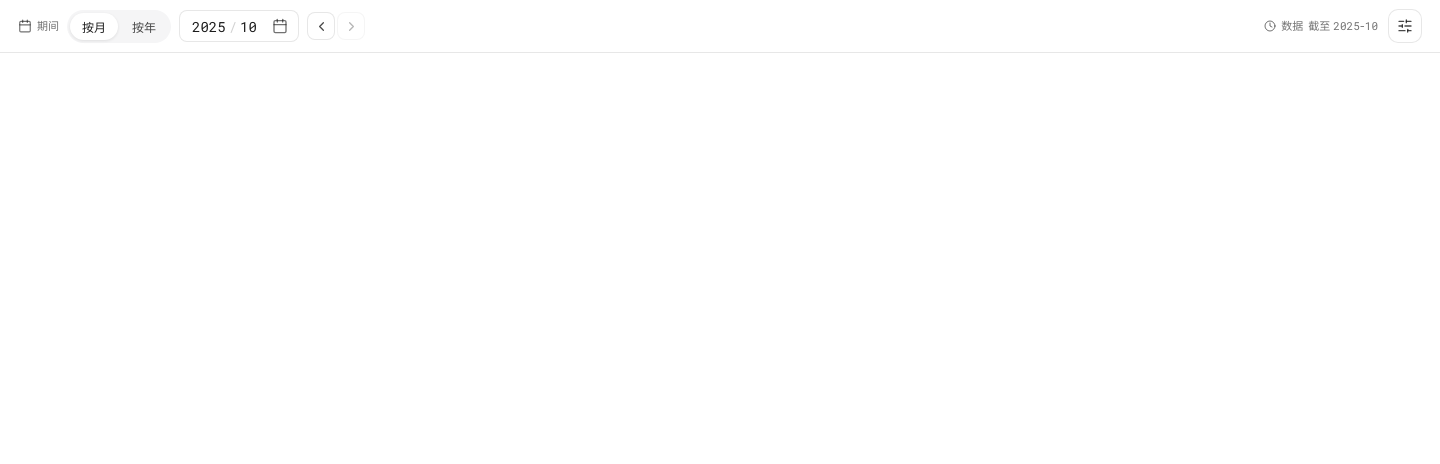
目标与阈值:库里一份,每一项要所属那一屏的编辑权 › ❗六项的编辑一项都没有:六个框和「恢复默认」都置灰;每个框悬停写它要哪一屏的编辑,弹层里一句总说明
Click the button with class "anx-icobtn".
click(1405, 26)  # box [1388,9,1422,43]
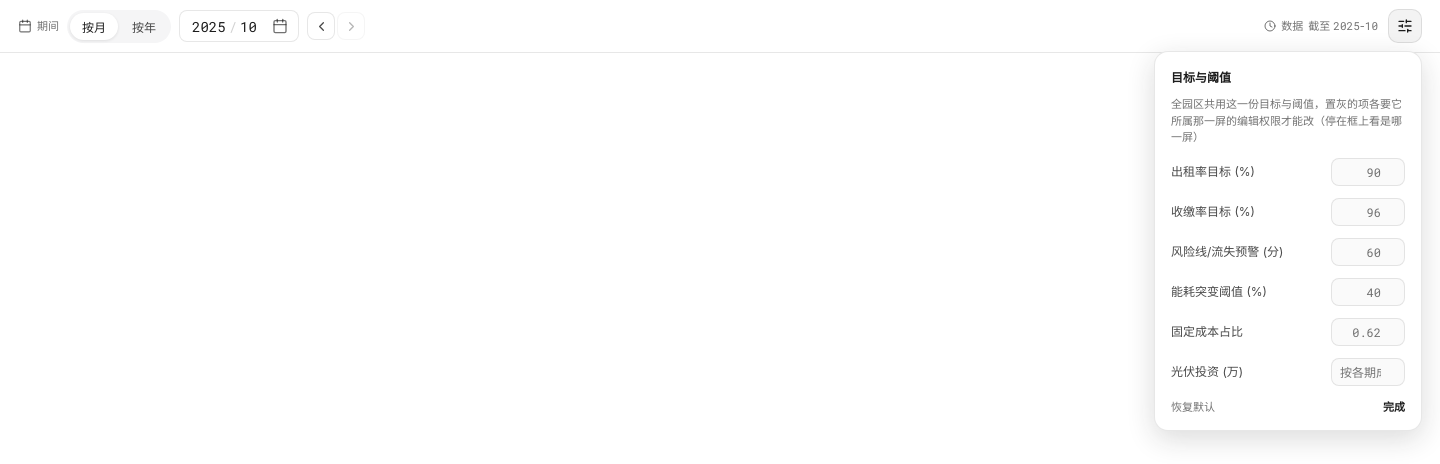
Expected: the number of number fields is 6, [1331,158,1405,186]; [1331,198,1405,226]; [1331,238,1405,266]; [1331,278,1405,306]; [1331,318,1405,346]; [1331,358,1405,386]
Expected: the number field named "全园区共用这一份目标与阈值，需要「出租与楼栋 · 编辑」权限才能改" is disabled, [1331,158,1405,186]
Expected: the number field named "全园区共用这一份目标与阈值，需要「现金流量分析 · 编辑」权限才能改" is disabled, [1331,198,1405,226]
